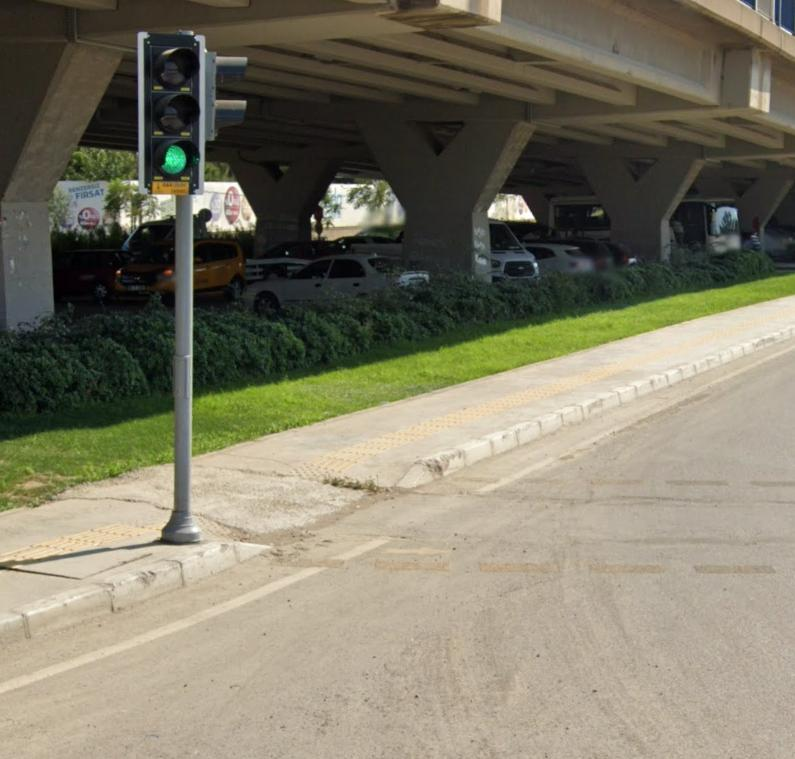greenlight: (145, 37, 198, 176)
